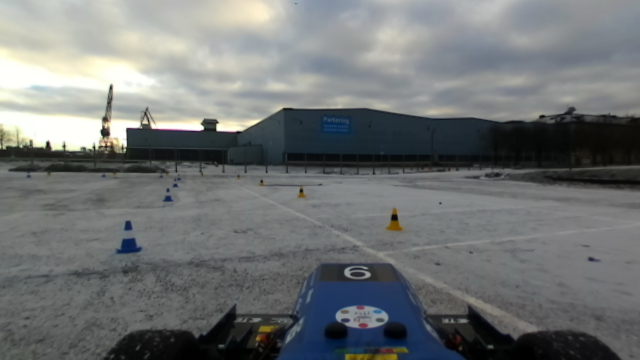blue: (113, 218, 142, 254)
yellow: (384, 206, 404, 233)
